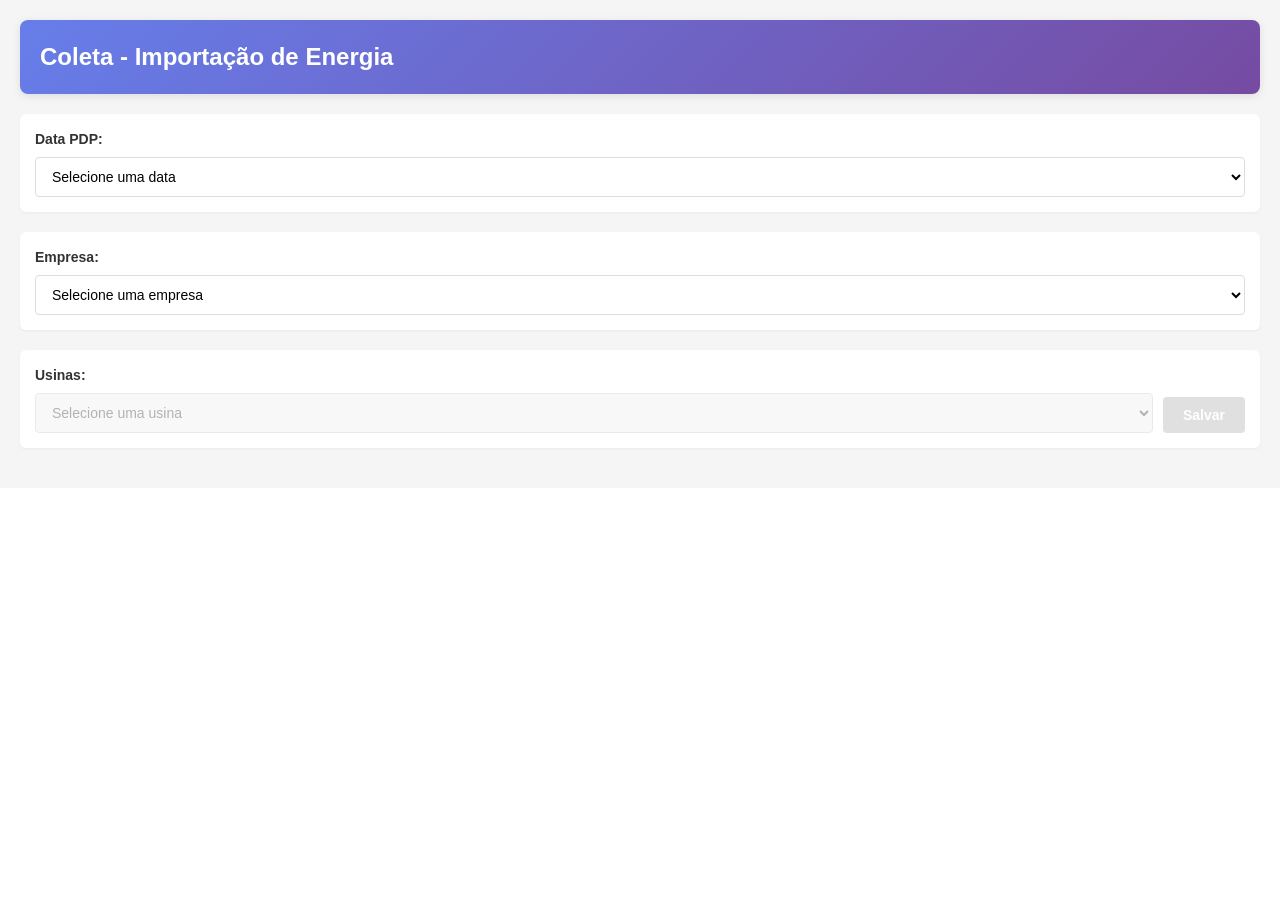
Test case: Import Component › Grid de Dados › deve exibir título do grid correto
Select "15/01/2024" in the dropdown with test id "data-pdp-select": (640, 177) [35, 157, 1245, 197]
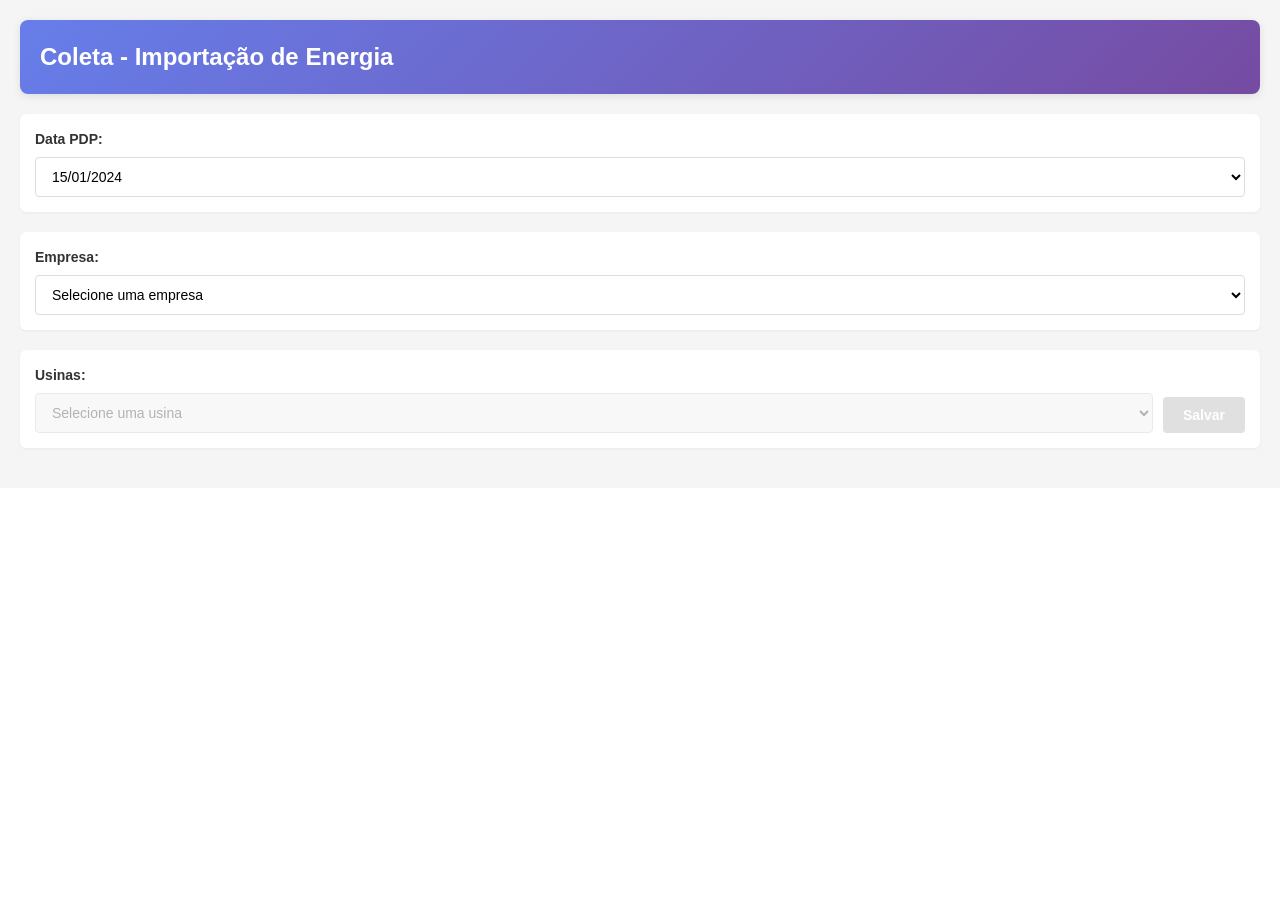
Select "Eletrobras" in the dropdown with test id "empresa-select": (640, 295) [35, 275, 1245, 315]
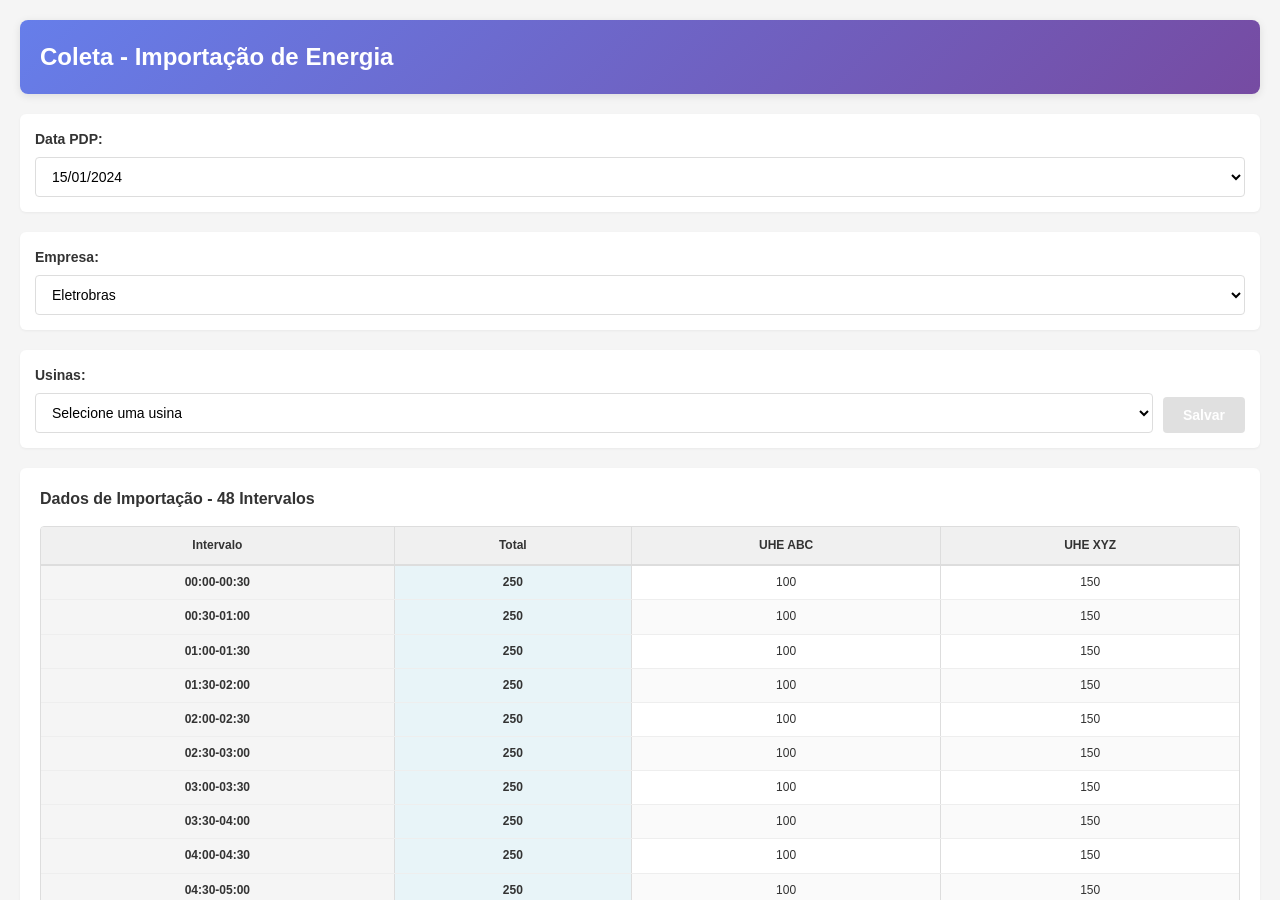
Result: the heading "Dados de Importação - 48 Intervalos" is shown at [40, 490, 315, 507]
